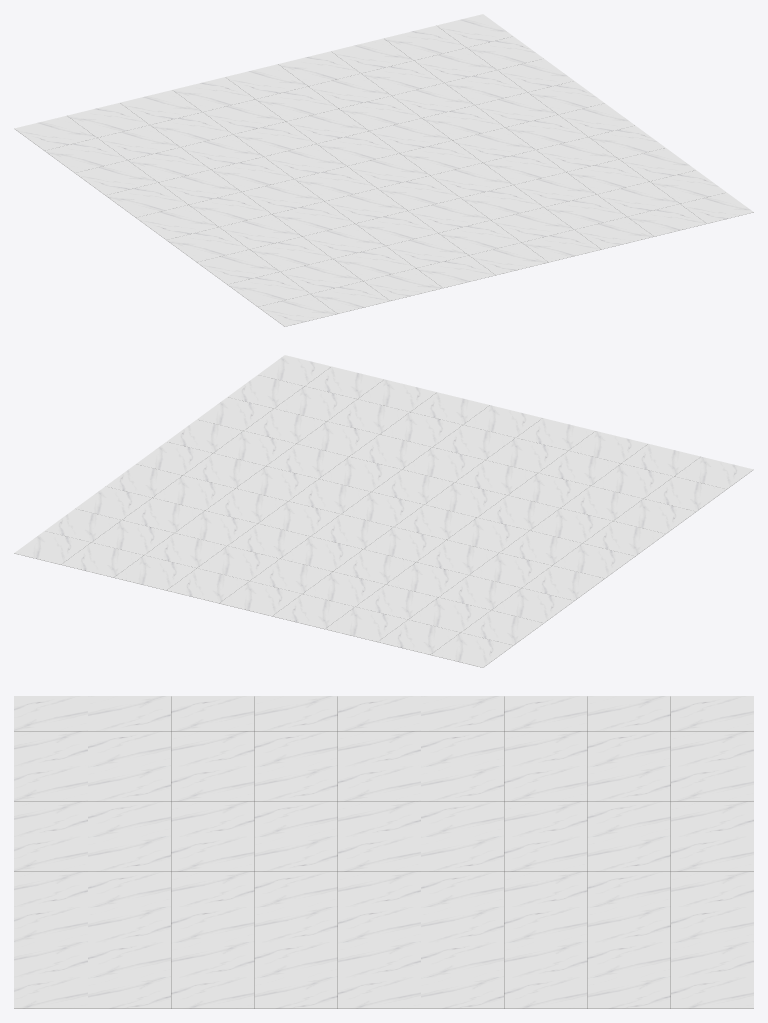
The model's file is era-white-90x90.glb.
3 views of the same model, one above another, from view 1: azimuth 30°, elevation 25°; view 2: azimuth 150°, elevation 25°; view 3: azimuth 270°, elevation 25° (orthographic). The views are drawn at different scales.
Parts seen in each view (by area): view 1: Era White; view 2: Era White; view 3: Era White.
Part boxes in pixels (x1=…): Era White: x1=14, y1=14, x2=753, y2=326; Era White: x1=14, y1=355, x2=753, y2=667; Era White: x1=14, y1=696, x2=753, y2=1008.
Bounding box in the file's own units: 8 × 0.003 × 8.
2 materials, 1 textured.
